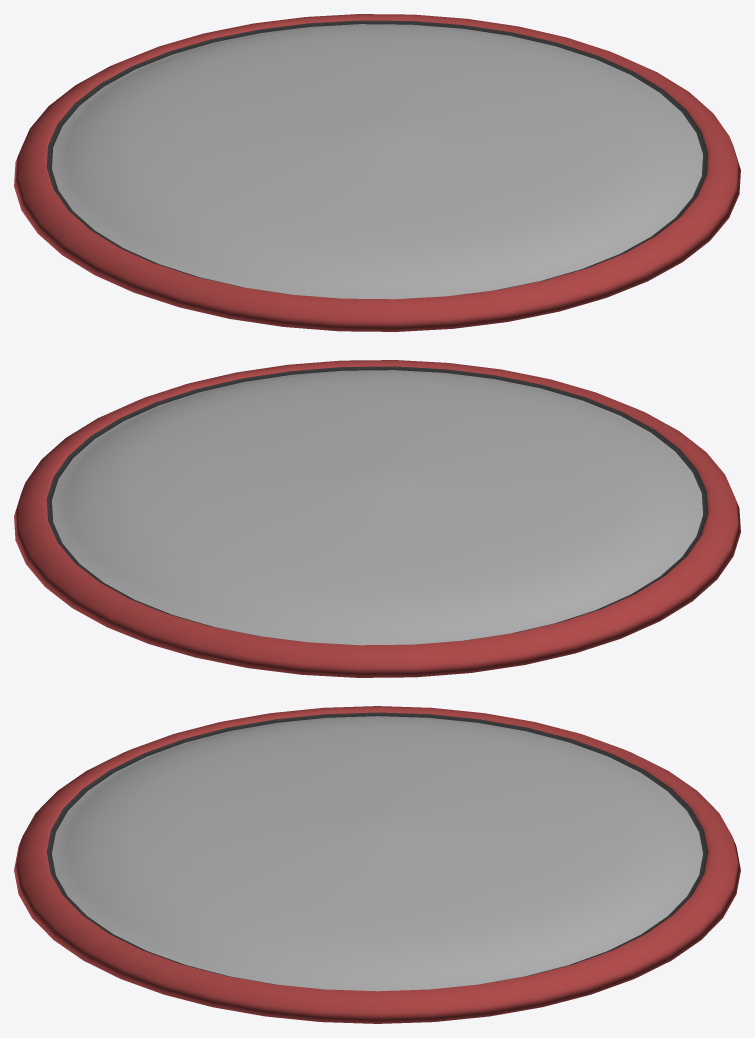
File: Boton_Teo.fbx
3 views of the same model, one above another, from view 1: azimuth 30°, elevation 25°; view 2: azimuth 150°, elevation 25°; view 3: azimuth 270°, elevation 25° (orthographic).
Visible parts, largest first — view 1: pCylinder1; view 2: pCylinder1; view 3: pCylinder1.
Part boxes in pixels (<box>): pCylinder1: <box>14,14,740,331</box>; pCylinder1: <box>14,360,740,677</box>; pCylinder1: <box>14,706,740,1023</box>.
Size of the model in its own units: 19.72 by 1.83 by 19.72.
